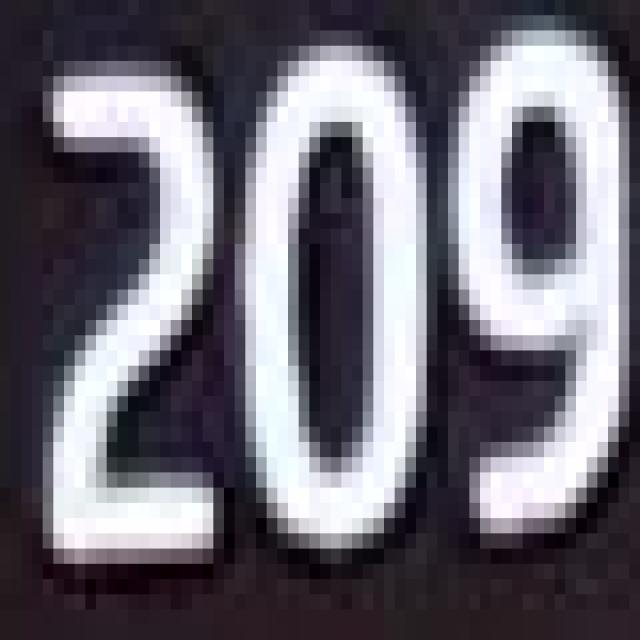character: (234, 35, 433, 570), (35, 46, 232, 582), (442, 15, 629, 555)
